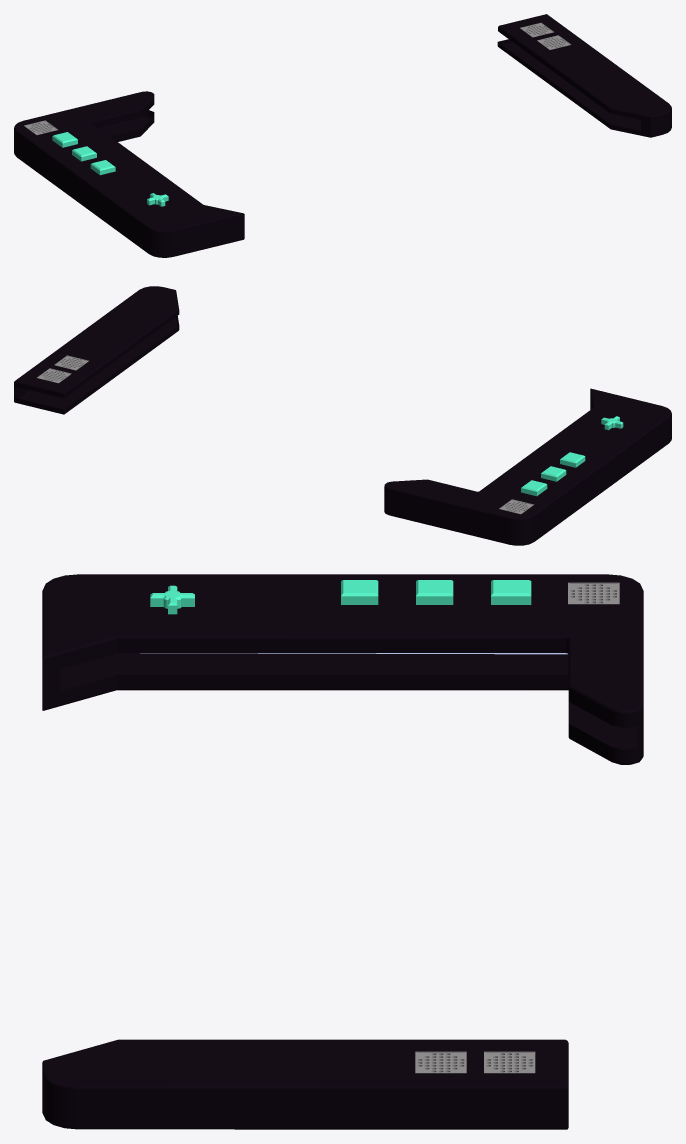
Rendered from pad.fbx.
3 renders of one model, top to bottom at view 1: azimuth 30°, elevation 25°; view 2: azimuth 150°, elevation 25°; view 3: azimuth 270°, elevation 25°, orthographic. The views are drawn at different scales.
Parts seen in each view (by area): view 1: sci-fi_data_pad; view 2: sci-fi_data_pad; view 3: sci-fi_data_pad.
Boxes of the visible parts, <box> form: sci-fi_data_pad: <box>14,14,671,257</box>; sci-fi_data_pad: <box>14,286,671,545</box>; sci-fi_data_pad: <box>42,574,643,1129</box>.
Size of the model in its own units: 759 by 45.56 by 380.
